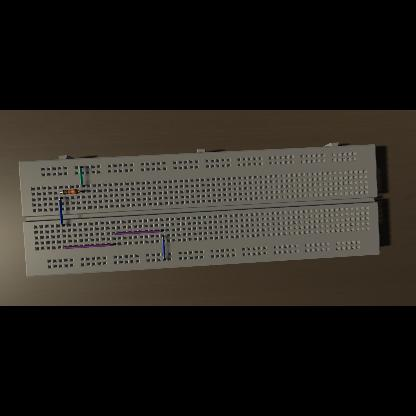breadboard: (19, 143, 380, 277)
resistor: (62, 190, 79, 194)
wire: (64, 244, 116, 249), (113, 230, 164, 235), (59, 198, 65, 226), (162, 235, 166, 261), (80, 167, 84, 187), (60, 192, 62, 194), (79, 192, 85, 192)
